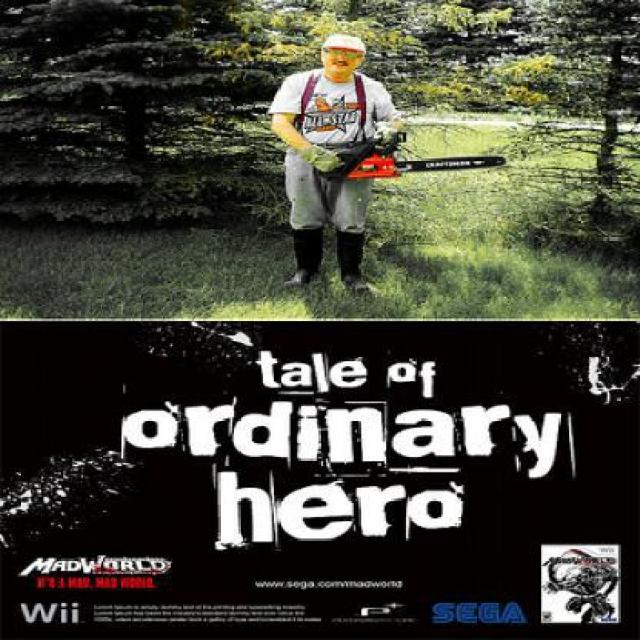Chainsaw: (313, 128, 510, 183)
